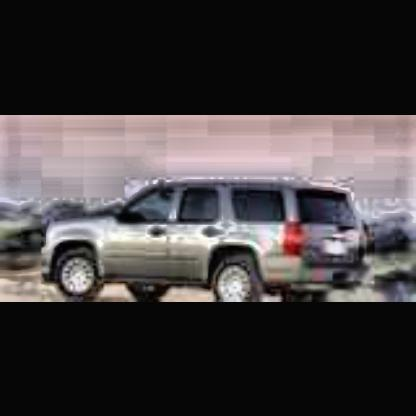Chevrolet Tahoe Hybrid SUV 2012: (40, 177, 375, 301)
